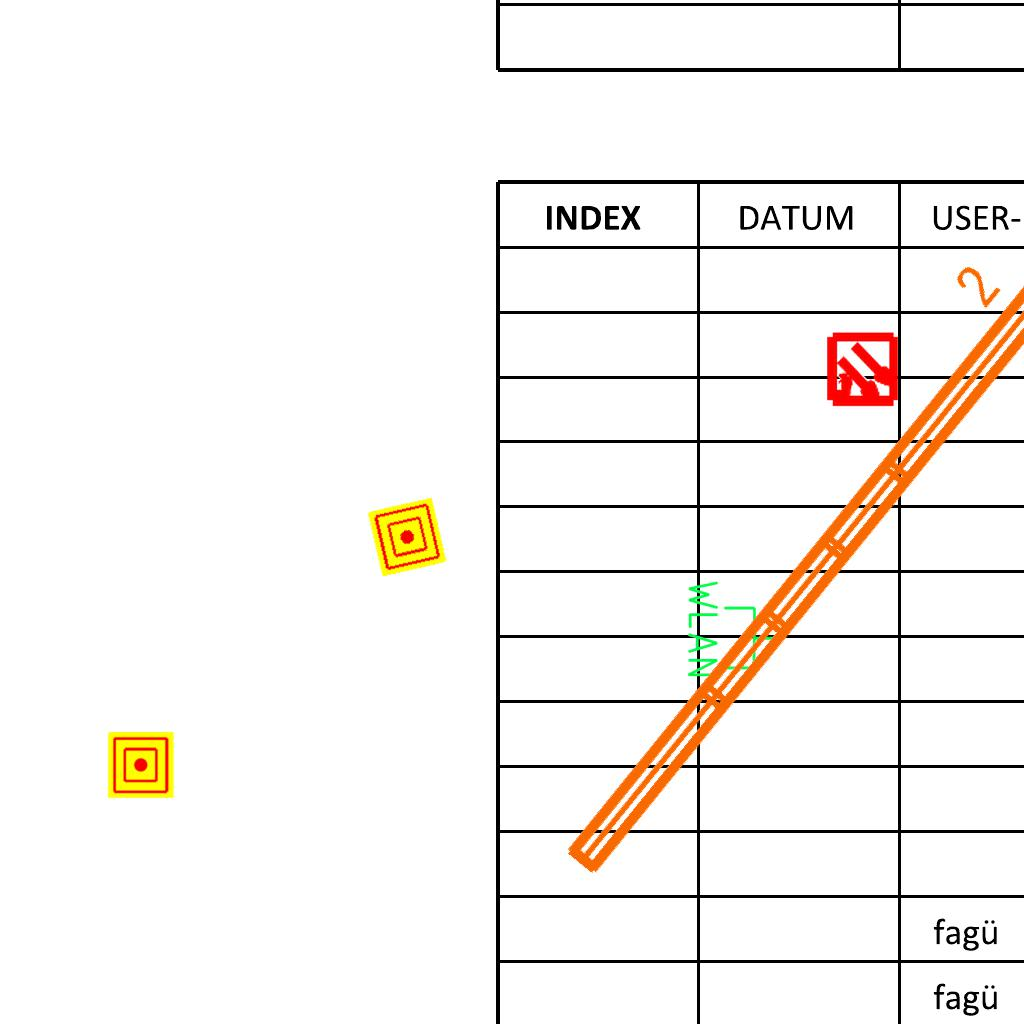Ambulanz_Pendelleuchte_LED: (509, 219, 1024, 891)
NAM-Nichtautomatischer_Melder: (367, 497, 447, 577), (108, 732, 174, 798)
OT_Multisensormelder_(Kombination_RMO_WMD): (806, 315, 919, 428)
WLAN: (684, 576, 788, 681)
